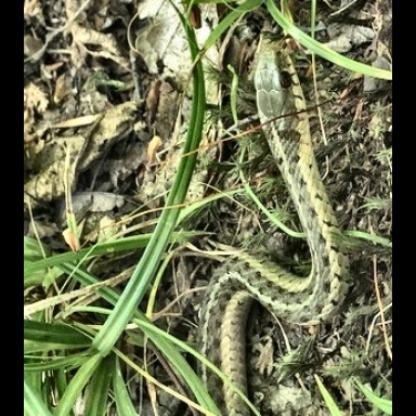Snake: (192, 24, 353, 416)
